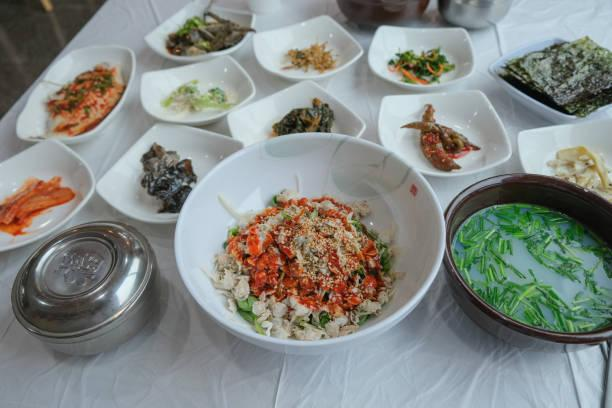Braised Crucian Carp: (174, 134, 439, 352), (440, 173, 609, 347)
